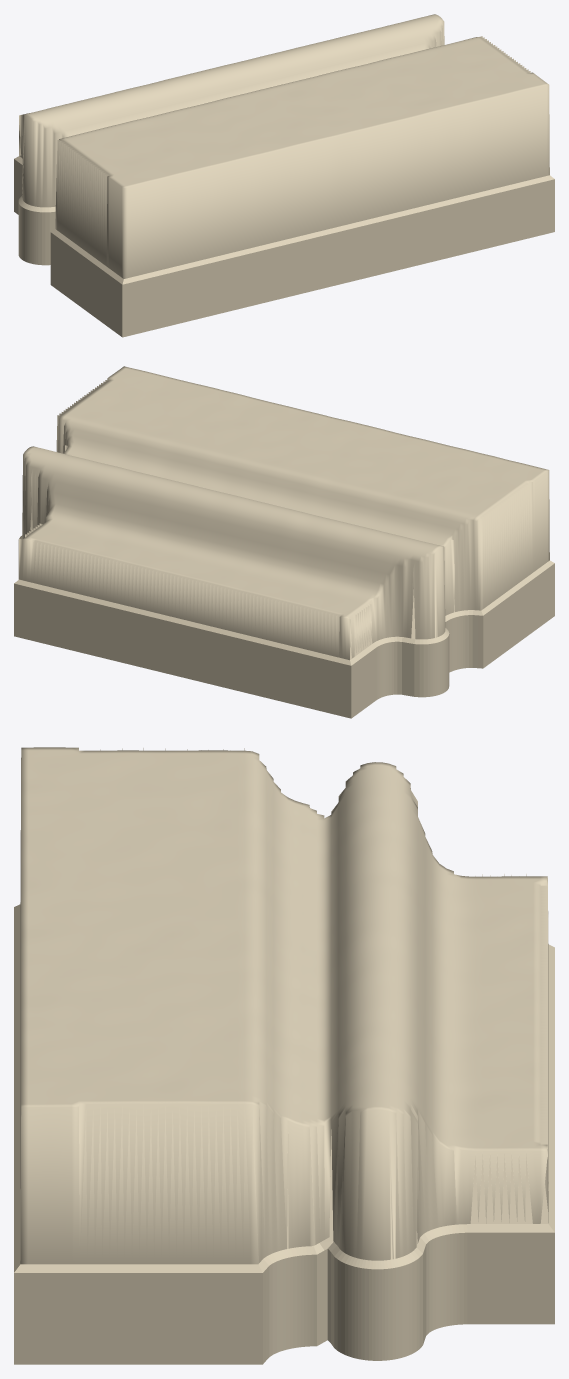
File: mahsulot.glb
3 views of the same model, one above another, from view 1: azimuth 30°, elevation 25°; view 2: azimuth 150°, elevation 25°; view 3: azimuth 270°, elevation 25° (orthographic). The views are drawn at different scales.
Parts seen in each view (by area): view 1: mahsulot; view 2: mahsulot; view 3: mahsulot.
Boxes of the visible parts, x1,y1,x2,y2 form: mahsulot: (14,14,554,337); mahsulot: (14,366,554,718); mahsulot: (14,747,554,1364).
Size of the model in its own units: 0.2 by 0.065 by 0.125.
